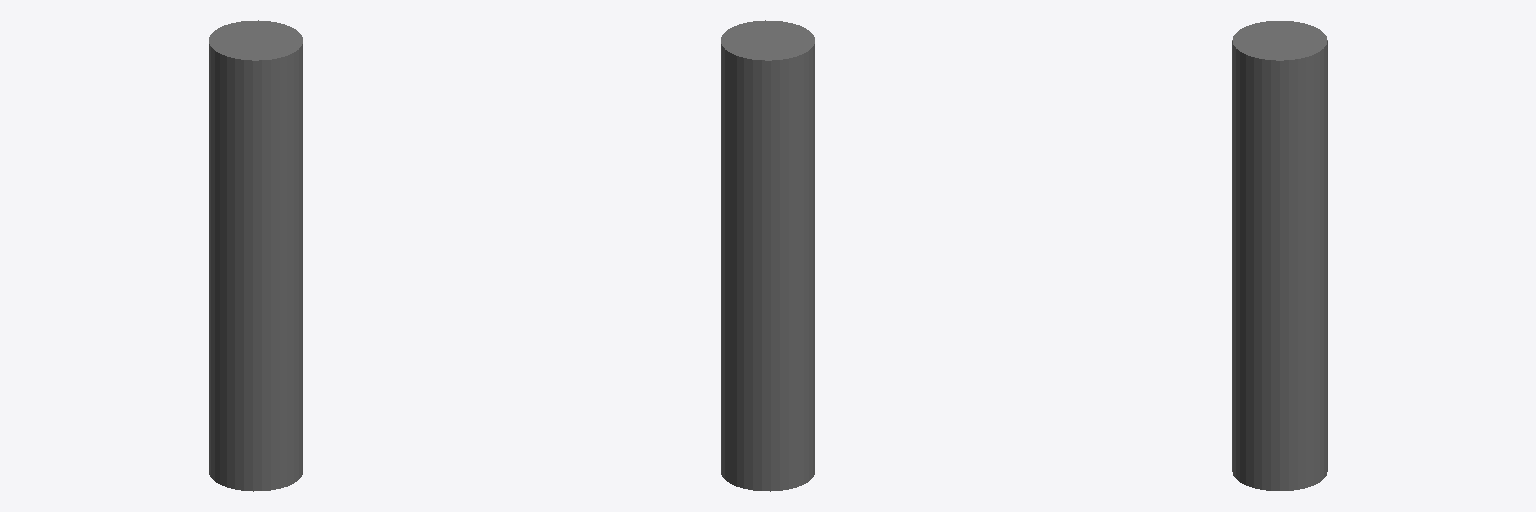
URDF robot description (simple_extruder):
<?xml version="1.0" ?>
<robot name="simple_extruder">
  <link name="extruder_body">
    <inertial>
      <mass value="0.1"/>
      <inertia ixx="1e-5" iyy="1e-5" izz="1e-5" ixy="0" ixz="0" iyz="0"/>
      <origin xyz="0 0 0.05"/>
    </inertial>
    <visual>
      <geometry>
        <cylinder radius="0.01" length="0.1"/>
      </geometry>
      <material name="gray">
        <color rgba="0.5 0.5 0.5 1"/>
      </material>
      <origin xyz="0 0 0.05" rpy="0 0 0"/>
    </visual>
  </link>
</robot>

--- What the picture shows (computed from the rendered views, not written in the file) ---
3 views of the same robot in one strip: view 1: azimuth 30°, elevation 25°; view 2: azimuth 150°, elevation 25°; view 3: azimuth 270°, elevation 25° (orthographic).
Model simple_extruder with 1 links and 0 joints (none), rooted at extruder_body, posed all joints at 0.
Visible links, largest first — view 1: extruder_body; view 2: extruder_body; view 3: extruder_body.
Link boxes in pixels (box(x1,y1,x2,y2)): extruder_body: box(209, 20, 302, 491); extruder_body: box(721, 20, 814, 491); extruder_body: box(1232, 21, 1327, 490).
Bounding box of the posed robot: 0.02 × 0.02 × 0.1 m (x, y, z).
Geometry: primitives only (box / cylinder / sphere), no mesh files.
